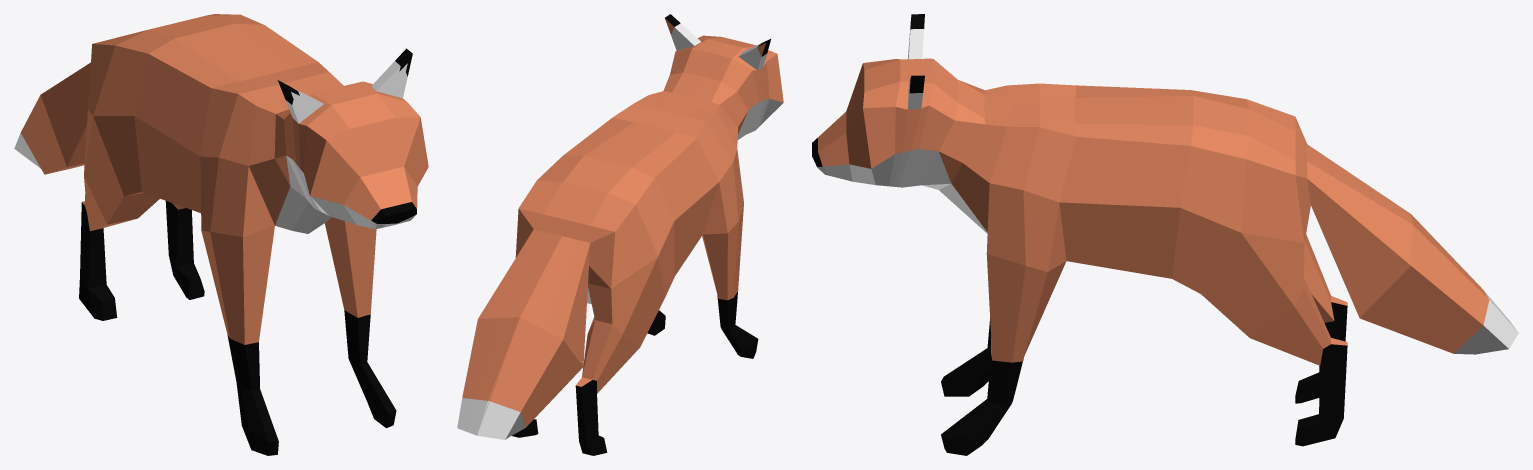
File: fox.fbx
The picture shows the model from 3 angles, left to right: view 1: azimuth 30°, elevation 25°; view 2: azimuth 150°, elevation 25°; view 3: azimuth 270°, elevation 25°; orthographic projection. The views are drawn at different scales.
Parts seen in each view (by area): view 1: Fox; view 2: Fox; view 3: Fox.
Boxes of the visible parts, x1,y1,x2,y2 form: Fox: (14,14,428,455); Fox: (457,14,783,455); Fox: (812,14,1518,455).
Bounding box in the file's own units: 129 × 271 × 459.
